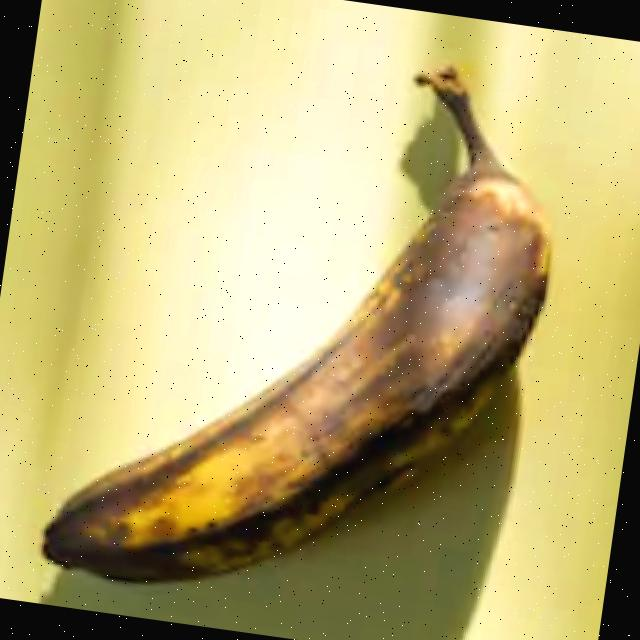Rotten: (7, 0, 609, 640)
